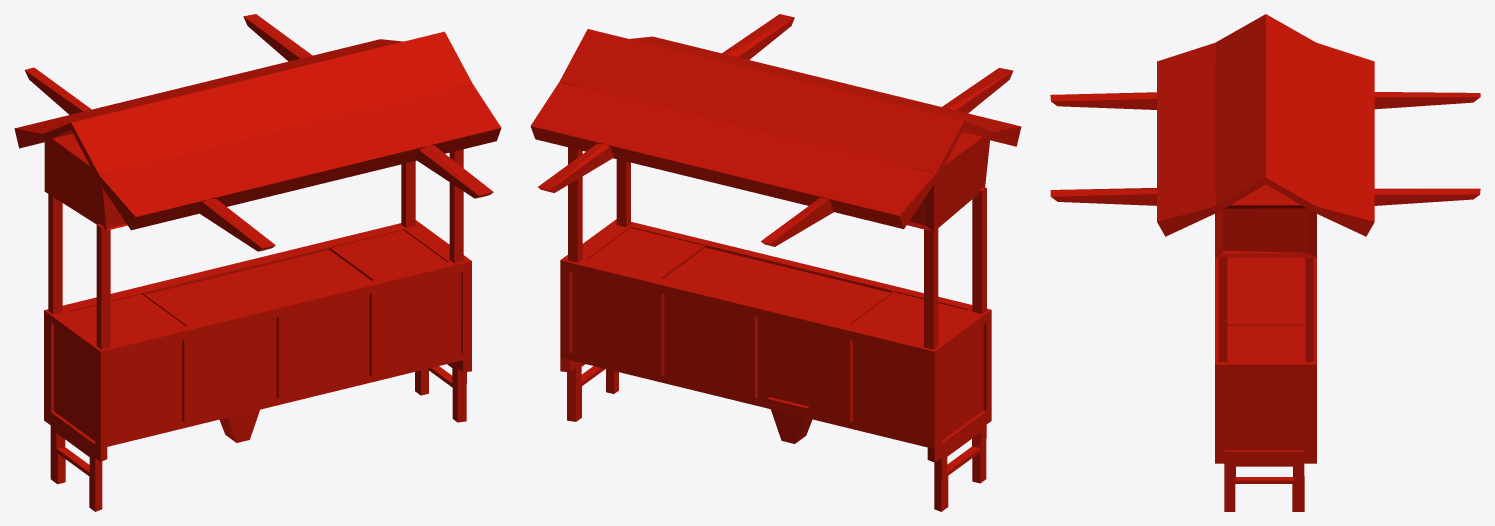
Rendered from angkringan.obj.
The picture shows the model from 3 angles, left to right: view 1: azimuth 30°, elevation 25°; view 2: azimuth 150°, elevation 25°; view 3: azimuth 270°, elevation 25°; orthographic projection. The views are drawn at different scales.
Visible parts, largest first — view 1: Cube.001, Plane, Cube.006, Cube.002, Cube.004, Cube.003, Cube.007, Cube.005; view 2: Cube.001, Plane, Cube.006, Cube.002, Cube.004, Cube.005, Cube.008, Cube.003; view 3: Plane, Cube.001, Cube.006, Cube.003, Cube.005.
Boxes of the visible parts, x1,y1,x2,y2 form: Cube.001: (44, 220, 471, 511); Plane: (14, 14, 501, 251); Cube.006: (44, 84, 471, 230); Cube.002: (96, 223, 110, 349); Cube.004: (48, 194, 62, 314); Cube.003: (449, 149, 463, 263); Cube.007: (219, 398, 263, 442); Cube.005: (401, 161, 415, 227); Cube.001: (560, 219, 991, 511); Plane: (530, 14, 1021, 246); Cube.006: (561, 82, 990, 231); Cube.002: (972, 187, 986, 313); Cube.004: (924, 228, 938, 349); Cube.005: (568, 147, 582, 262); Cube.008: (767, 397, 812, 443); Cube.003: (616, 159, 630, 227); Plane: (1050, 14, 1480, 236); Cube.001: (1215, 257, 1316, 511); Cube.006: (1215, 43, 1316, 257); Cube.003: (1218, 257, 1227, 361); Cube.005: (1305, 257, 1313, 361).
Size of the model in its own units: 6.63 by 6.32 by 7.37.
